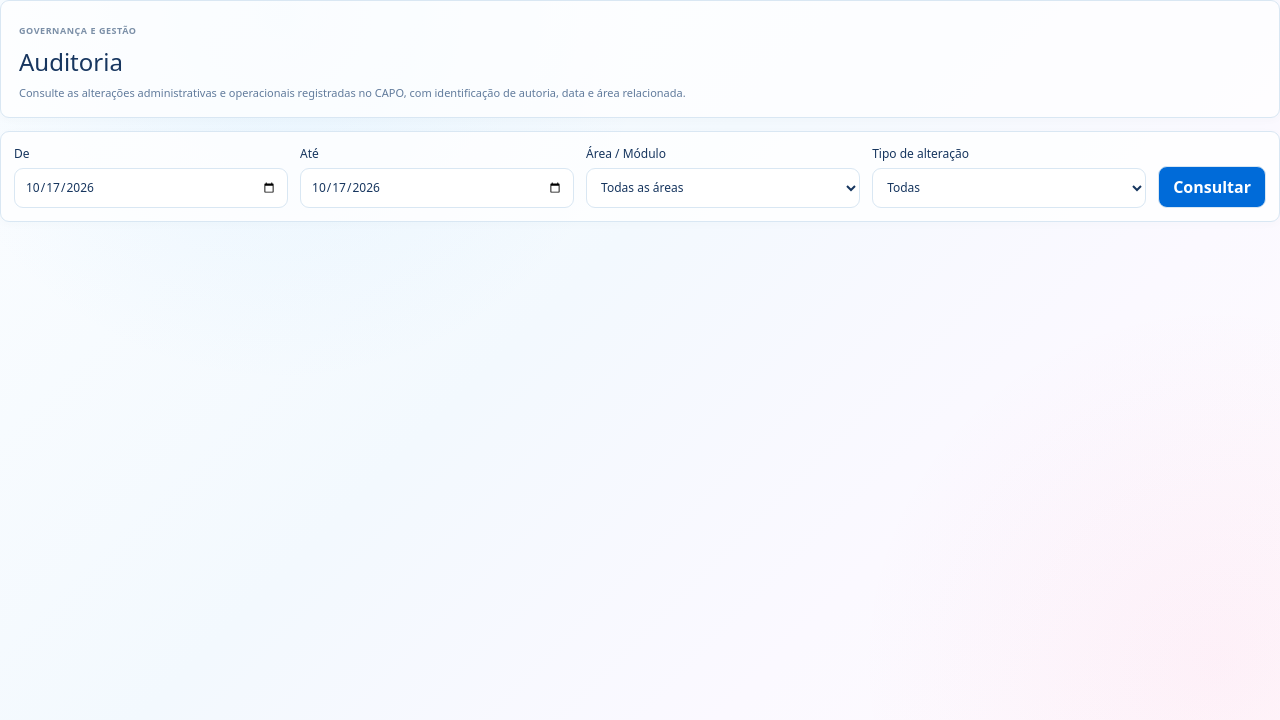
Auditoria administrativa do Gestor › não inventa paciente nem detalhes quando a RPC os omite
Click the button "Consultar".
click(1212, 186)  # box [1158, 166, 1266, 208]
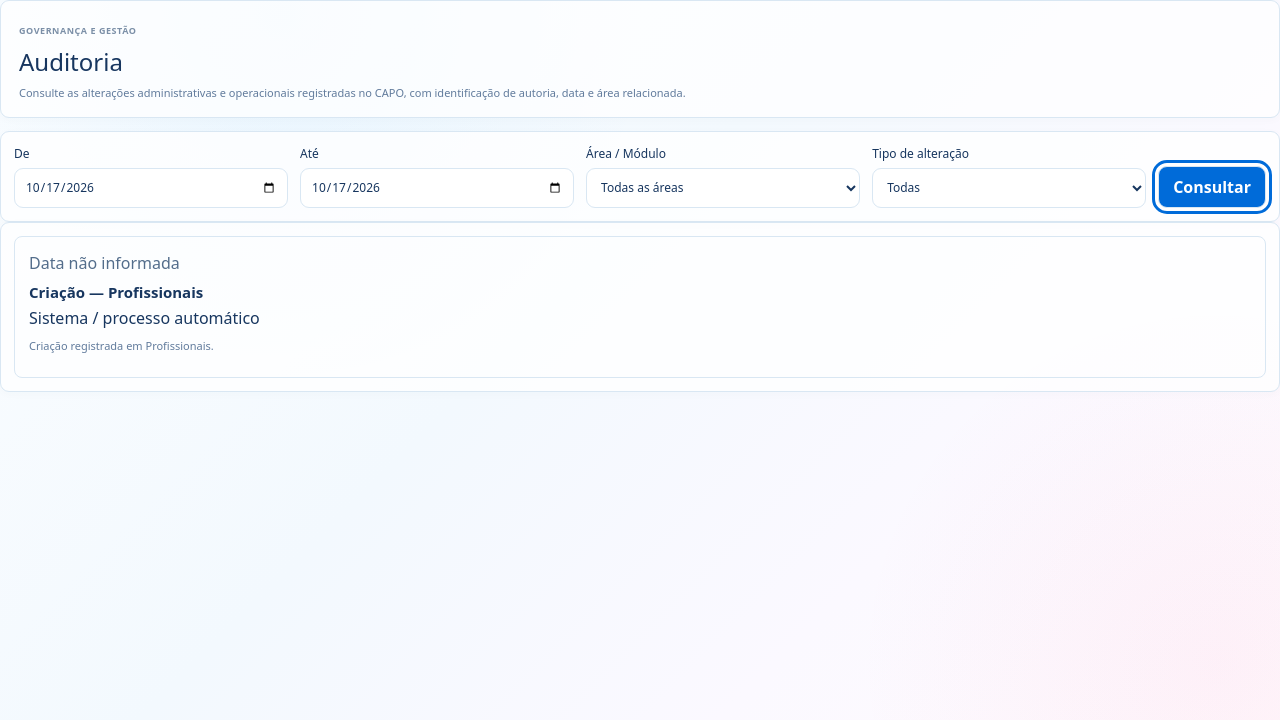
Expected: the text "Criação — Profissionais" is shown, [29, 282, 203, 302]
